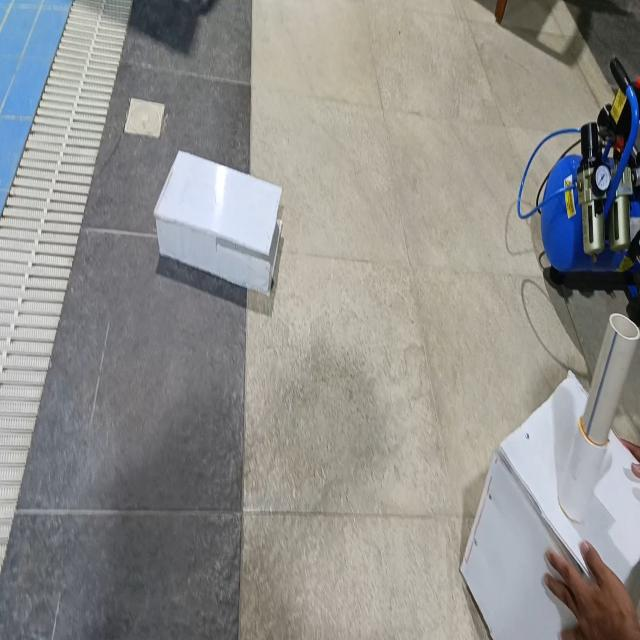Cube: (452, 363, 640, 640)
Cuboid: (153, 148, 283, 295)
